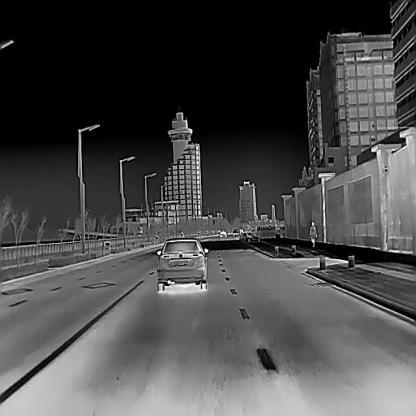car: (156, 237, 208, 289), (309, 221, 317, 247), (233, 227, 239, 236), (220, 229, 226, 238)
